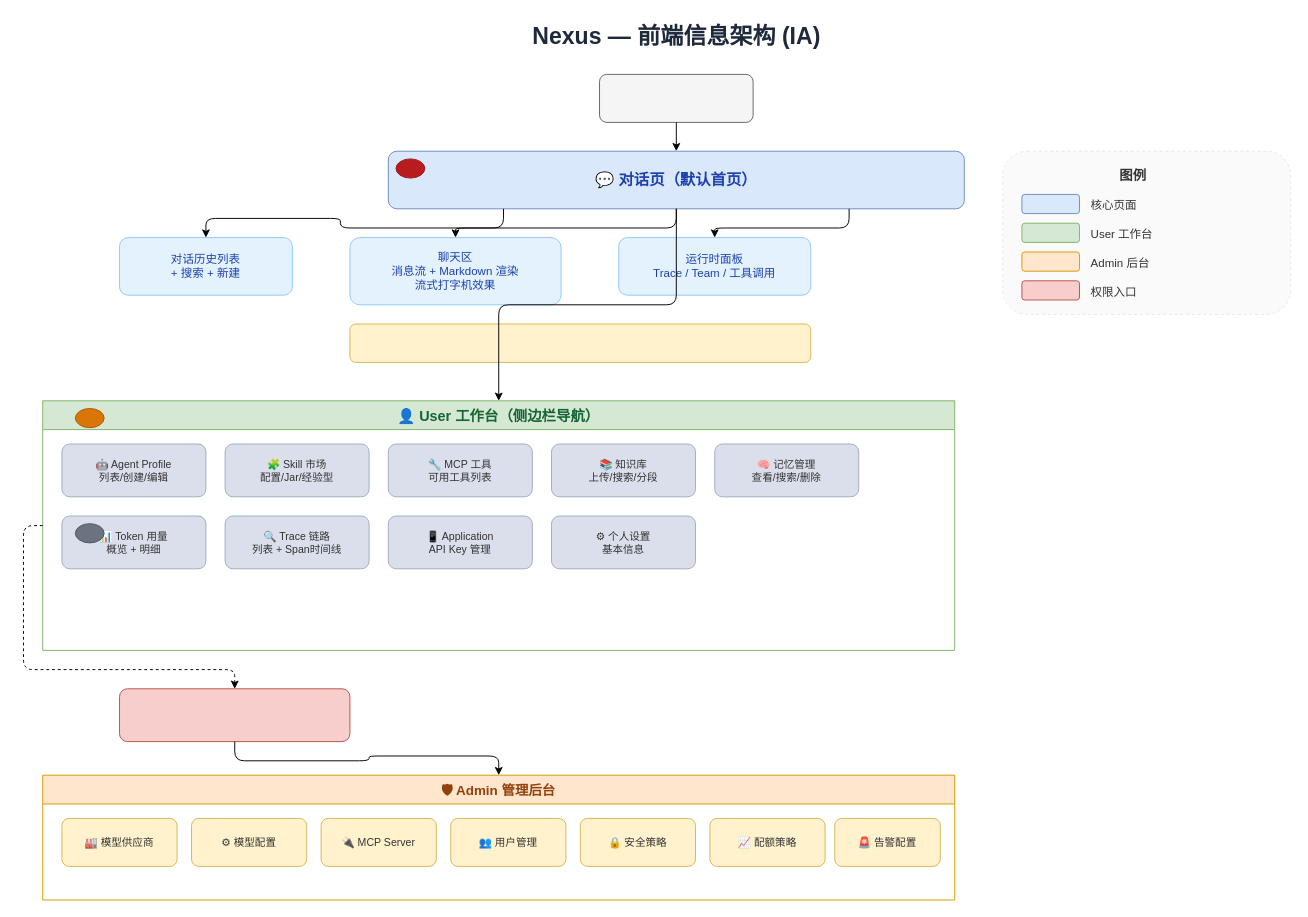
The diagram is 1308 pixels wide and 917 high, and some of its shapes have lost their labels. Here are the shapes that lost their labels. From the top down, the centre of each, then its label:
At (x=676, y=97): "🔑 登录/注册".
At (x=410, y=168): "P0".
At (x=580, y=342): "模式选择 (Agent/Team/Direct) | Profile | Skill 勾选".
At (x=89, y=418): "P1".
At (x=89, y=533): "P2".
At (x=234, y=715): "🛡 Admin 后台入口 （仅 Admin 可见，侧边栏底部）".
